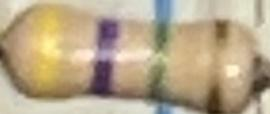Blue: (89, 17, 119, 97)
Green: (144, 20, 169, 101)
Side-Gold: (207, 20, 230, 112)
Yellow: (33, 5, 66, 96)
